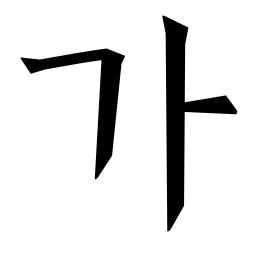Gaji: (150, 84, 208, 136)
